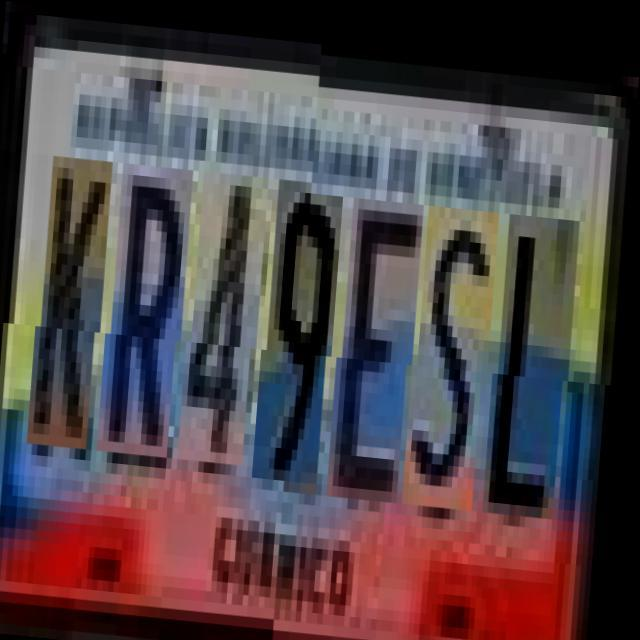4: (190, 178, 270, 470)
9: (264, 184, 346, 488)
E: (339, 190, 426, 494)
K: (39, 165, 114, 458)
L: (495, 203, 582, 507)
R: (108, 171, 195, 465)
S: (414, 197, 502, 500)
